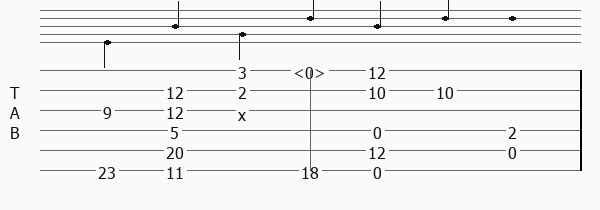0: (373, 122, 386, 138), (373, 162, 386, 178), (508, 142, 521, 158)
10: (368, 82, 390, 98), (436, 82, 458, 98)
11: (166, 162, 188, 178)
12: (166, 102, 188, 118), (166, 82, 188, 98), (368, 62, 390, 78), (368, 142, 390, 158)
18: (301, 162, 323, 178)
2: (238, 82, 251, 98), (508, 122, 521, 138)
20: (166, 142, 188, 158)
23: (98, 162, 120, 178)
3: (238, 62, 251, 78)
5: (170, 122, 183, 138)
9: (103, 102, 116, 118)
harmonic: (293, 62, 330, 78)
x: (238, 104, 250, 117)
